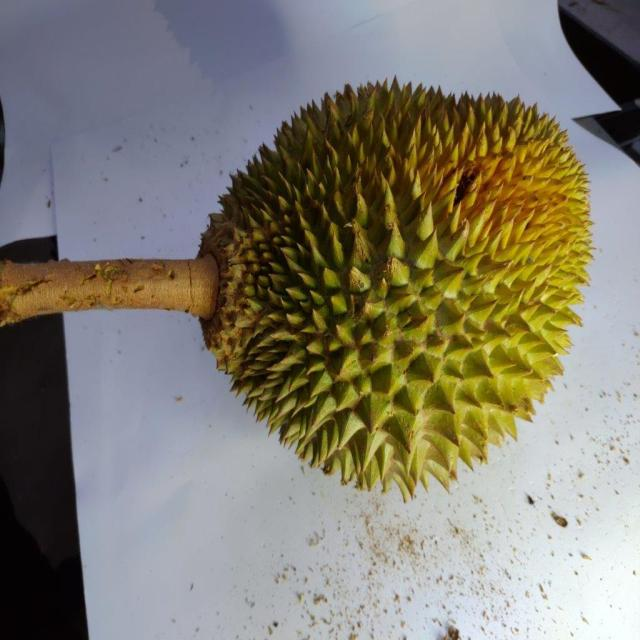defective: (196, 76, 596, 498)
